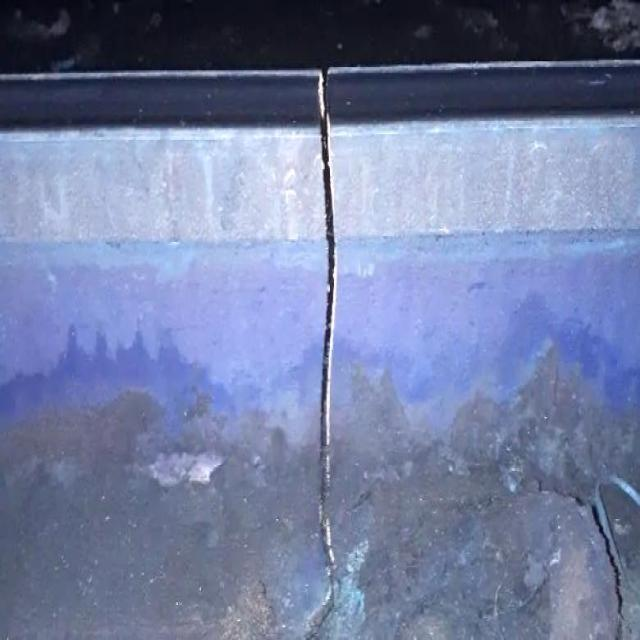broken_rail_medium: (303, 73, 352, 640)
